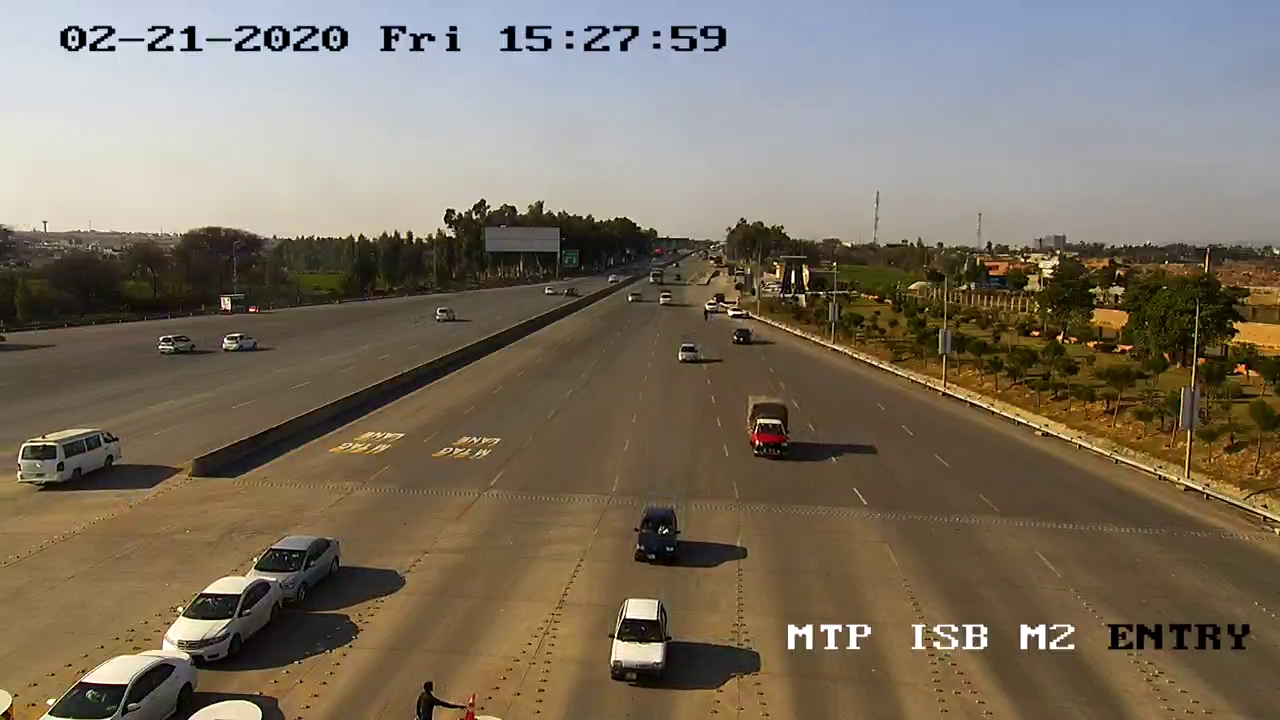f1: (604, 592, 676, 690), (620, 498, 689, 578)
f2: (742, 392, 799, 468)
